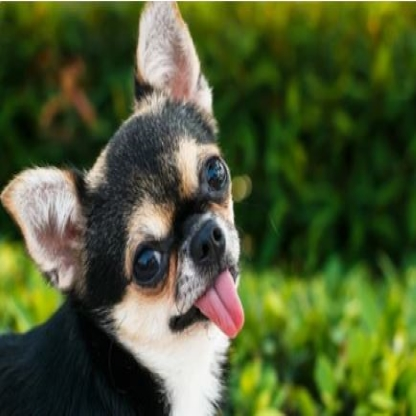chihuahua: (6, 5, 245, 416)
